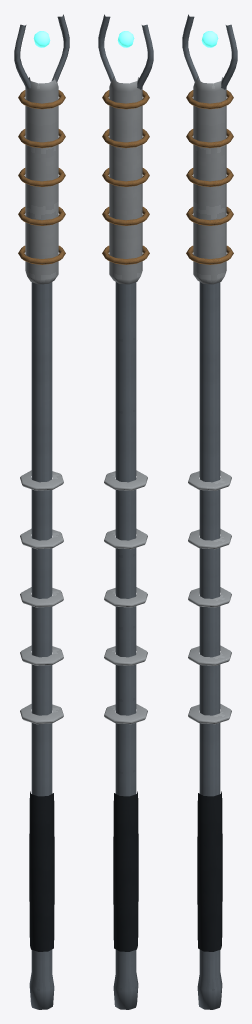
File: channeling-rod.lod2.glb
3 views of the same model, side by side, from view 1: azimuth 30°, elevation 25°; view 2: azimuth 150°, elevation 25°; view 3: azimuth 330°, elevation 25° (orthographic).
Visible parts, largest first — view 1: alloy / machined anodized alloy, ceramic / ceramic composite panel, polymer / stippled polymer, bronze / cast bronze with patina, energy / emissive field channel; view 2: alloy / machined anodized alloy, ceramic / ceramic composite panel, polymer / stippled polymer, bronze / cast bronze with patina, energy / emissive field channel; view 3: alloy / machined anodized alloy, ceramic / ceramic composite panel, polymer / stippled polymer, bronze / cast bronze with patina, energy / emissive field channel.
Part boxes in pixels (x1,y1,x2,y2): alloy / machined anodized alloy: (14,14,69,1009); ceramic / ceramic composite panel: (20,76,63,724); polymer / stippled polymer: (29,791,54,951); bronze / cast bronze with patina: (18,90,65,264); energy / emissive field channel: (33,31,50,47); alloy / machined anodized alloy: (98,14,153,1009); ceramic / ceramic composite panel: (104,76,147,724); polymer / stippled polymer: (113,791,138,951); bronze / cast bronze with patina: (102,90,149,264); energy / emissive field channel: (117,31,134,47); alloy / machined anodized alloy: (182,14,237,1009); ceramic / ceramic composite panel: (188,76,231,724); polymer / stippled polymer: (197,791,222,951); bronze / cast bronze with patina: (186,90,233,264); energy / emissive field channel: (201,31,218,47).
Size of the model in its own units: 0.0896 by 1.52 by 0.067.
5 materials, 4 textured.
